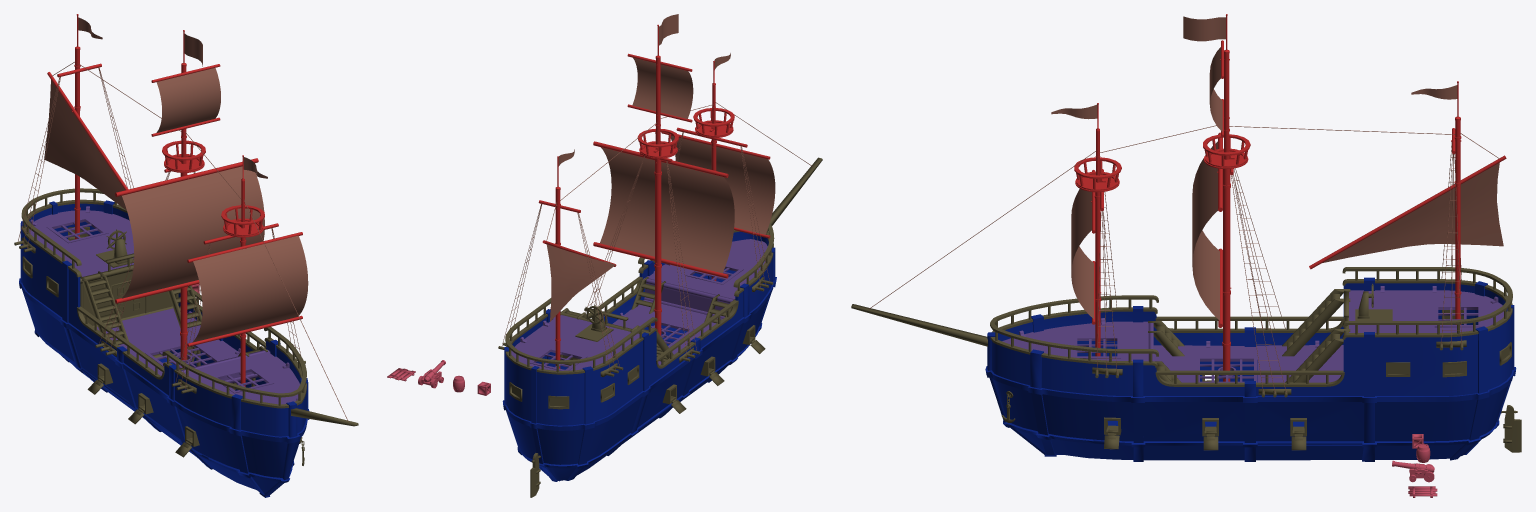
The model's file is StylShip_Unity.fbx.
3 renders of one model, left to right at view 1: azimuth 30°, elevation 25°; view 2: azimuth 150°, elevation 25°; view 3: azimuth 270°, elevation 25°, orthographic. The views are drawn at different scales.
Parts seen in each view (by area): view 1: StylShip_Body, StylShip_SailMid1, StylShip_SailFront, StylShip_SailBack, StylShip_FloorBackTop, StylShip_FloorMid, StylShip_MastMid, StylShip_FloorFront, StylShip_SailMid2, StylShip_MastFront, StylShip_FencingFront, StylShip_StairsTop (+14 smaller); view 2: StylShip_Body, StylShip_SailMid1, StylShip_SailFront, StylShip_MastMid, StylShip_FloorFront, StylShip_FloorBackTop, StylShip_SailMid2, StylShip_SailBack, StylShip_FencingBack, StylShip_MastFront, StylShip_FloorMid, StylShip_FencingMid (+11 smaller); view 3: StylShip_Body, StylShip_SailBack, StylShip_FloorBackTop, StylShip_FloorMid, StylShip_MastMid, StylShip_FencingBack, StylShip_FencingMid, StylShip_FloorFront, StylShip_FencingFront, StylShip_SailMid1, StylShip_MastFront, StylShip_StairsTop (+15 smaller).
Part boxes in pixels (left/top/right/bottom): StylShip_Body: left=19, top=200, right=309, bottom=497; StylShip_SailMid1: left=122, top=166, right=264, bottom=298; StylShip_SailFront: left=192, top=235, right=308, bottom=342; StylShip_SailBack: left=44, top=80, right=126, bottom=210; StylShip_FloorBackTop: left=29, top=206, right=133, bottom=276; StylShip_FloorMid: left=97, top=308, right=240, bottom=375; StylShip_MastMid: left=115, top=30, right=258, bottom=367; StylShip_FloorFront: left=180, top=349, right=299, bottom=404; StylShip_SailMid2: left=156, top=68, right=220, bottom=132; StylShip_MastFront: left=187, top=155, right=302, bottom=386; StylShip_FencingFront: left=162, top=327, right=306, bottom=408; StylShip_StairsTop: left=80, top=271, right=201, bottom=344; StylShip_Body: left=502, top=231, right=776, bottom=481; StylShip_SailMid1: left=600, top=147, right=734, bottom=273; StylShip_SailFront: left=670, top=135, right=775, bottom=234; StylShip_MastMid: left=593, top=24, right=728, bottom=335; StylShip_FloorFront: left=643, top=239, right=767, bottom=318; StylShip_FloorBackTop: left=511, top=315, right=639, bottom=370; StylShip_SailMid2: left=632, top=57, right=693, bottom=118; StylShip_SailBack: left=546, top=244, right=615, bottom=321; StylShip_FencingBack: left=505, top=298, right=657, bottom=374; StylShip_MastFront: left=661, top=61, right=770, bottom=280; StylShip_FloorMid: left=612, top=299, right=722, bottom=365; StylShip_FencingMid: left=589, top=276, right=738, bottom=368; StylShip_Body: left=985, top=277, right=1516, bottom=461; StylShip_SailBack: left=1323, top=162, right=1503, bottom=262; StylShip_FloorBackTop: left=1349, top=286, right=1503, bottom=332; StylShip_FloorMid: left=1153, top=340, right=1343, bottom=382; StylShip_MastMid: left=1203, top=14, right=1250, bottom=381; StylShip_FencingBack: left=1342, top=267, right=1512, bottom=339; StylShip_FencingMid: left=1155, top=316, right=1344, bottom=386; StylShip_FloorFront: left=1002, top=318, right=1153, bottom=361; StylShip_FencingFront: left=990, top=295, right=1158, bottom=367; StylShip_SailMid1: left=1192, top=141, right=1219, bottom=320; StylShip_MastFront: left=1074, top=103, right=1121, bottom=356; StylShip_StairsTop: left=1282, top=289, right=1350, bottom=382.
Bounding box in the file's own units: 2674 × 5442 × 3955.
